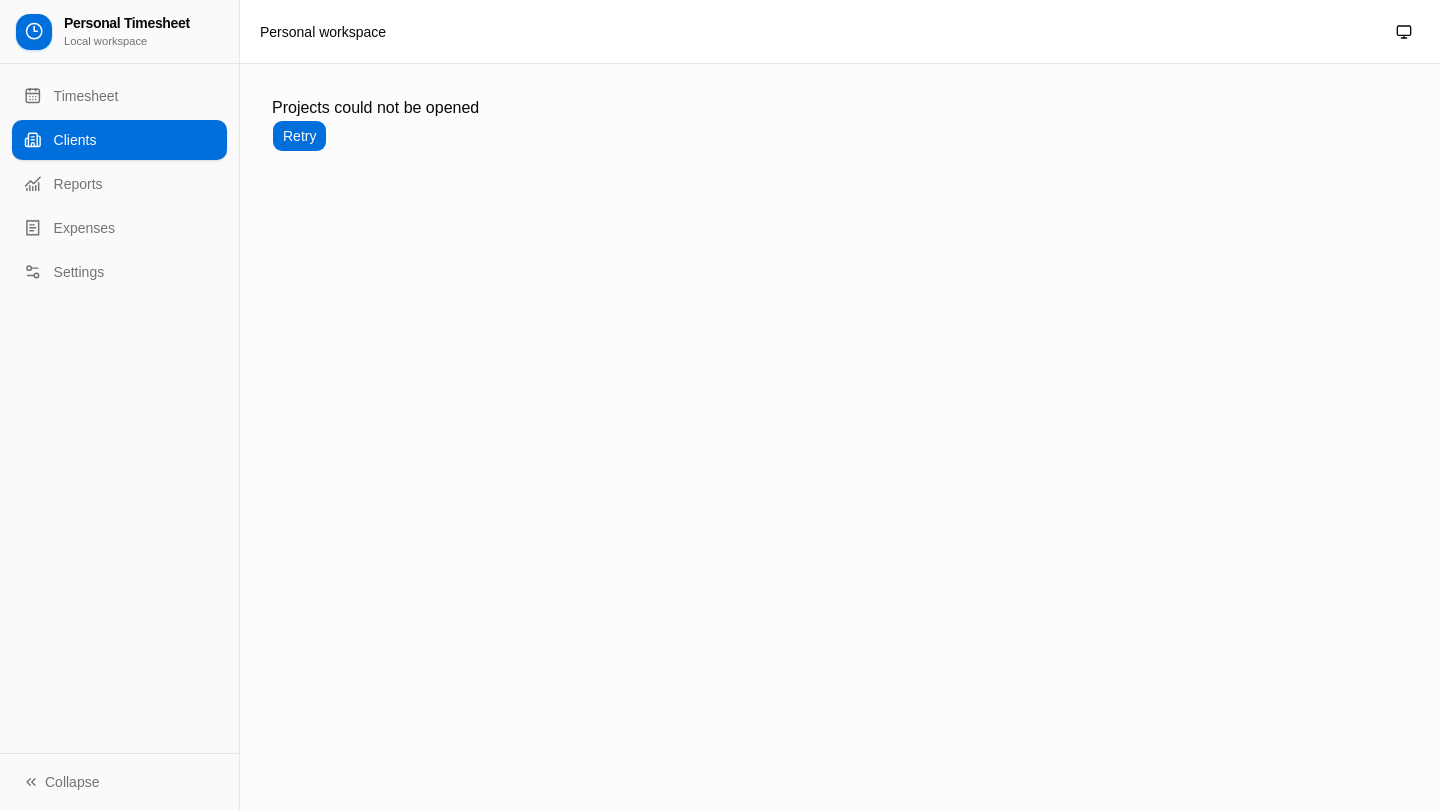
application shell › recovers a failed Project context load on Retry
Check: the message shows "Projects could not be opened", box [272, 99, 479, 116]
What coordinates should you click on to do the following:
click the button "Retry"
I would click on:
 (300, 136)
Its box is [272, 120, 328, 152].
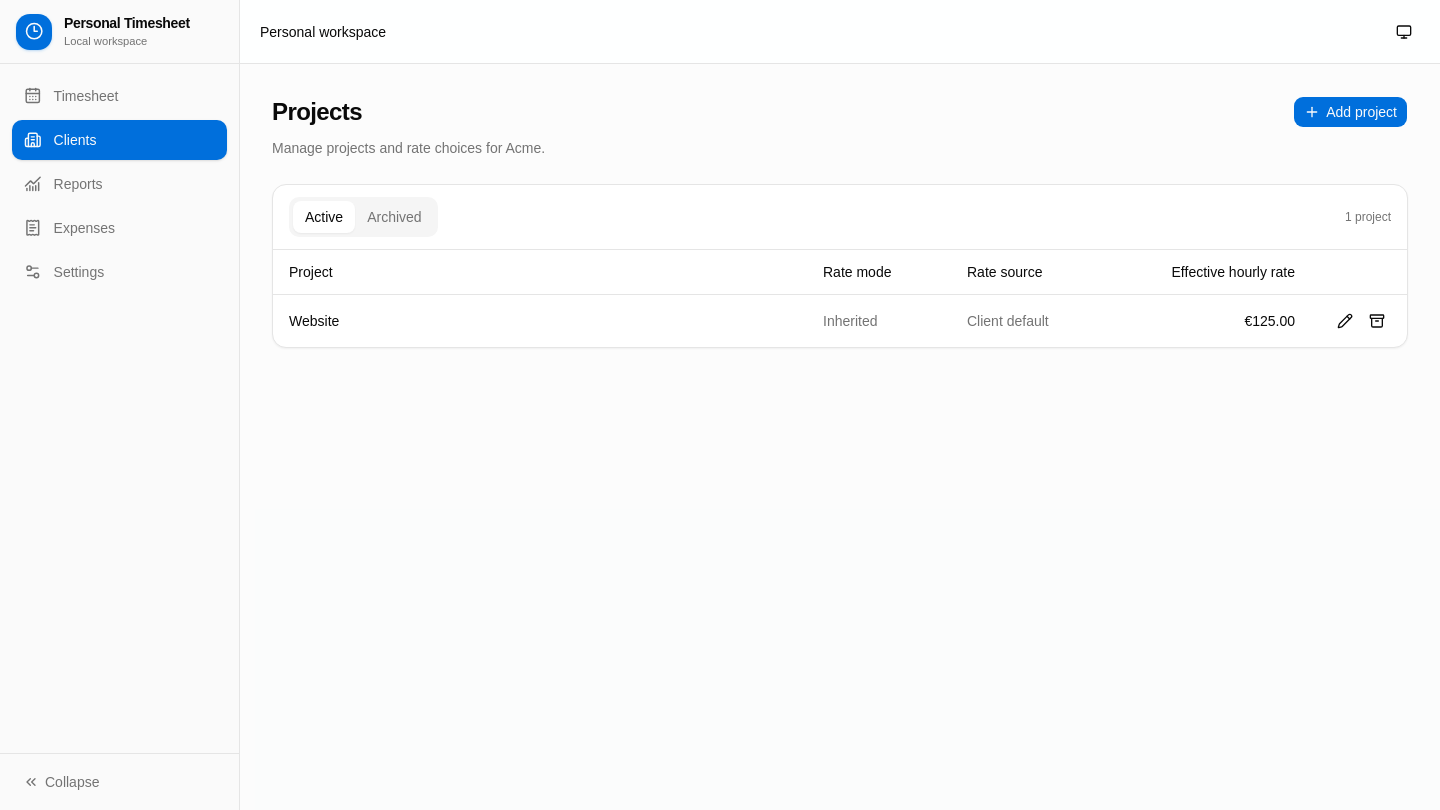
Check: the heading "Projects" is shown, box [272, 98, 362, 125]
Check: the link "Website" is shown, box [289, 312, 339, 328]
